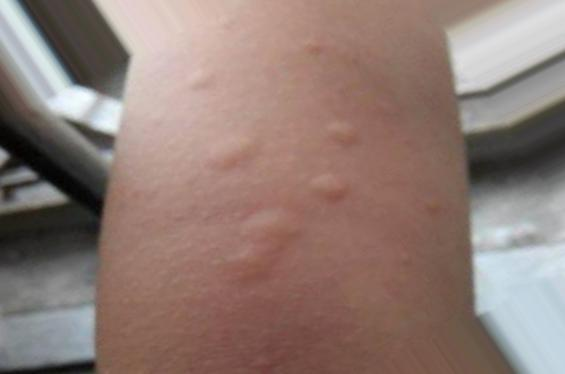Mosquito: (197, 125, 261, 177), (241, 209, 301, 249), (227, 241, 282, 279), (306, 167, 355, 208), (319, 115, 363, 154), (185, 66, 218, 93)
